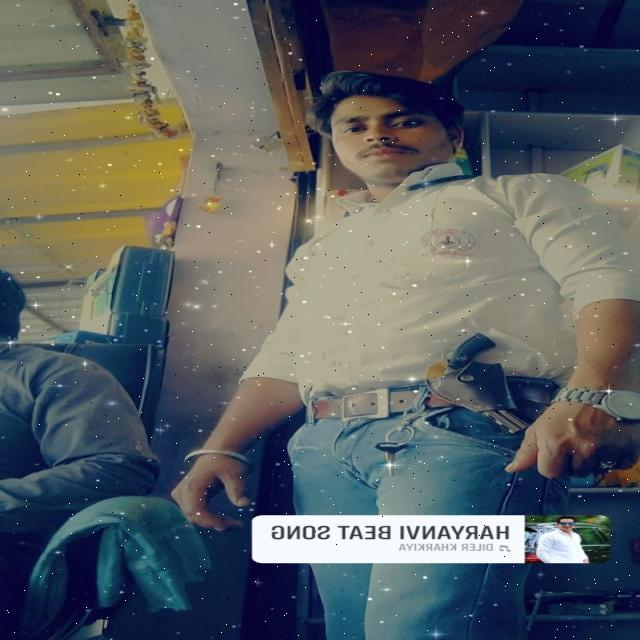gun: (412, 323, 544, 439)
